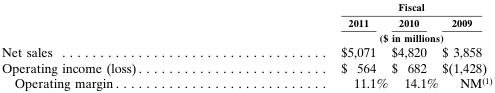table: (0, 0, 491, 90)
table column: (0, 0, 240, 90), (240, 0, 389, 90), (439, 0, 491, 90), (389, 0, 439, 90)
table column header: (0, 0, 491, 43)
table row: (0, 43, 491, 59), (0, 74, 491, 90), (0, 14, 491, 29), (0, 59, 491, 74), (0, 0, 491, 14), (0, 29, 491, 43)
table spanning cell: (240, 0, 491, 14), (240, 29, 491, 43)
